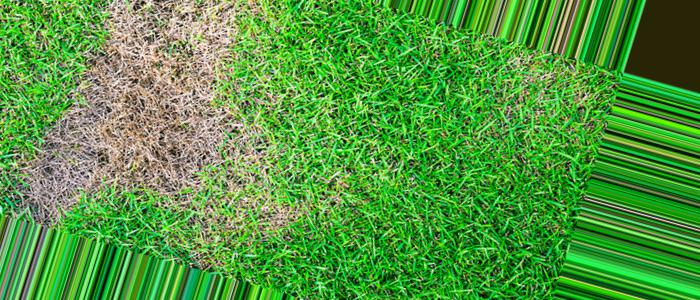patch: (121, 19, 244, 200), (56, 137, 89, 180)
